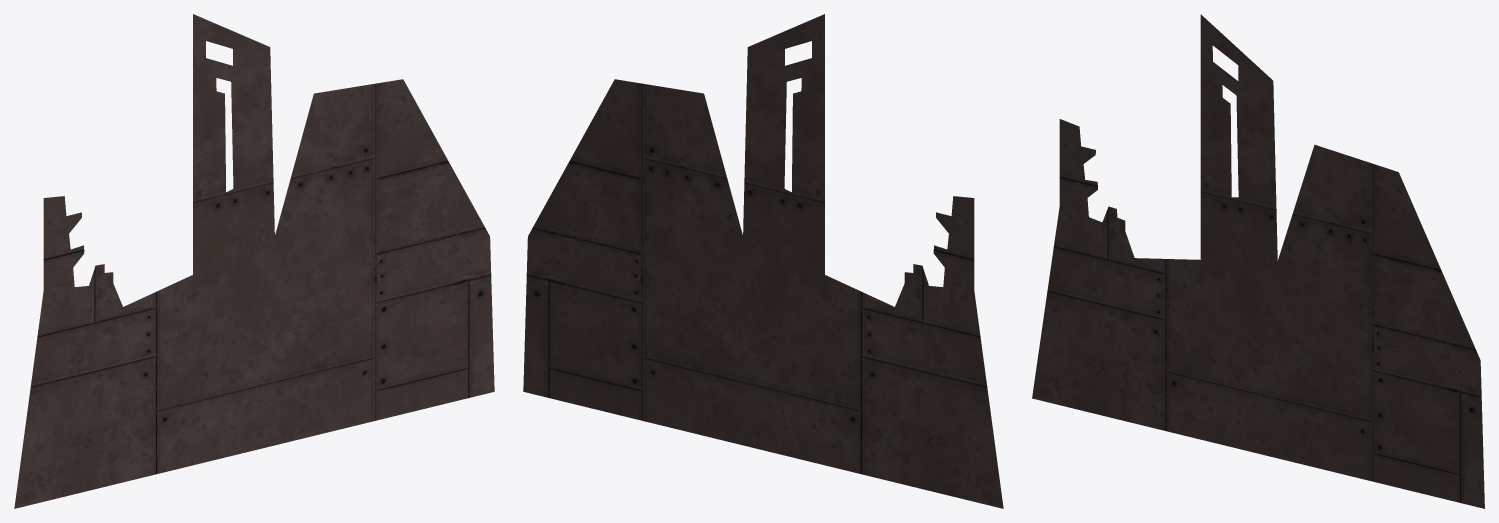
File: Vista07.fbx
3 renders of one model, left to right at view 1: azimuth 30°, elevation 25°; view 2: azimuth 150°, elevation 25°; view 3: azimuth 330°, elevation 25°, orthographic. The views are drawn at different scales.
Parts seen in each view (by area): view 1: SM_ENV_STRUCT_ScrapYard_Vista_07.mo; view 2: SM_ENV_STRUCT_ScrapYard_Vista_07.mo; view 3: SM_ENV_STRUCT_ScrapYard_Vista_07.mo.
Boxes of the visible parts, x1,y1,x2,y2 form: SM_ENV_STRUCT_ScrapYard_Vista_07.mo: [14, 14, 494, 508]; SM_ENV_STRUCT_ScrapYard_Vista_07.mo: [523, 14, 1003, 508]; SM_ENV_STRUCT_ScrapYard_Vista_07.mo: [1032, 14, 1484, 508].
Bounding box in the file's own units: 2476 × 2223 × 0.000466.
1 material, 1 textured.
